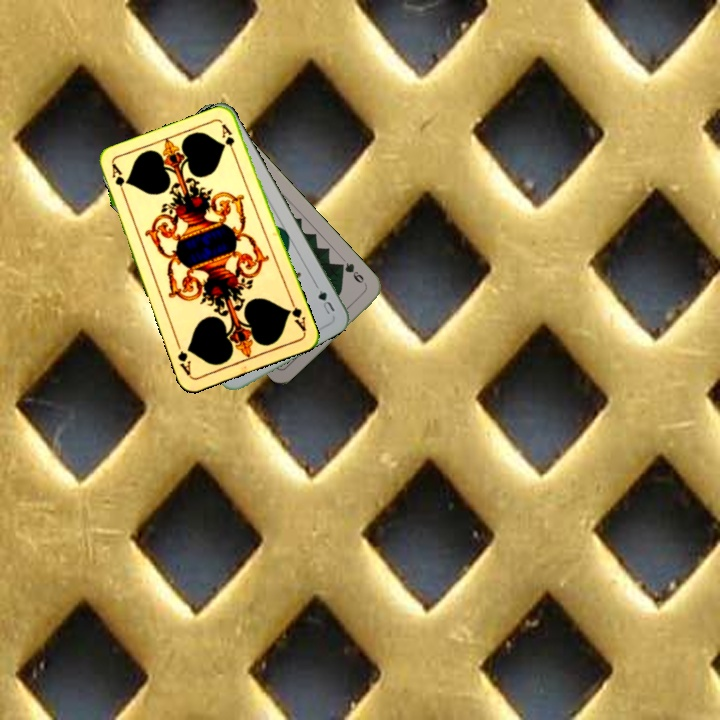G9: (335, 258, 369, 289)
GA: (284, 295, 309, 334), (108, 160, 128, 200)
GU: (314, 286, 338, 317)
